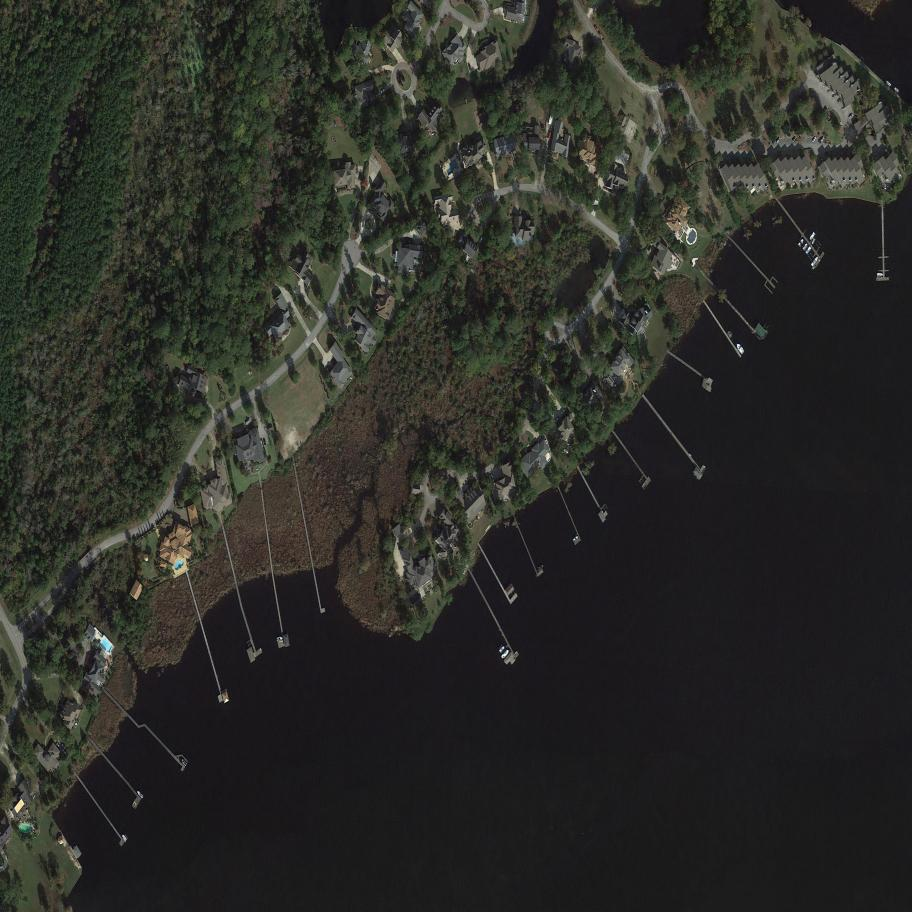ship: (734, 342, 746, 355), (499, 649, 511, 661), (135, 789, 145, 800), (810, 256, 819, 267), (535, 564, 545, 573), (180, 758, 189, 767), (498, 645, 507, 654), (121, 833, 129, 842), (808, 232, 816, 241), (571, 535, 580, 543), (805, 246, 812, 255), (801, 242, 808, 251), (798, 238, 805, 247), (885, 80, 892, 87), (893, 87, 901, 93), (811, 237, 816, 246), (380, 46, 387, 52), (877, 273, 883, 277)
small-vehicle: (593, 24, 600, 33), (55, 741, 62, 749), (543, 436, 549, 445), (818, 137, 825, 144), (553, 417, 560, 424), (593, 171, 600, 178), (61, 749, 67, 756), (848, 113, 854, 120), (791, 136, 797, 143), (775, 137, 781, 144), (560, 408, 566, 415), (479, 236, 484, 244), (811, 137, 817, 143), (490, 474, 495, 481), (263, 438, 267, 446), (468, 64, 472, 72), (61, 744, 66, 749), (548, 132, 551, 140)
